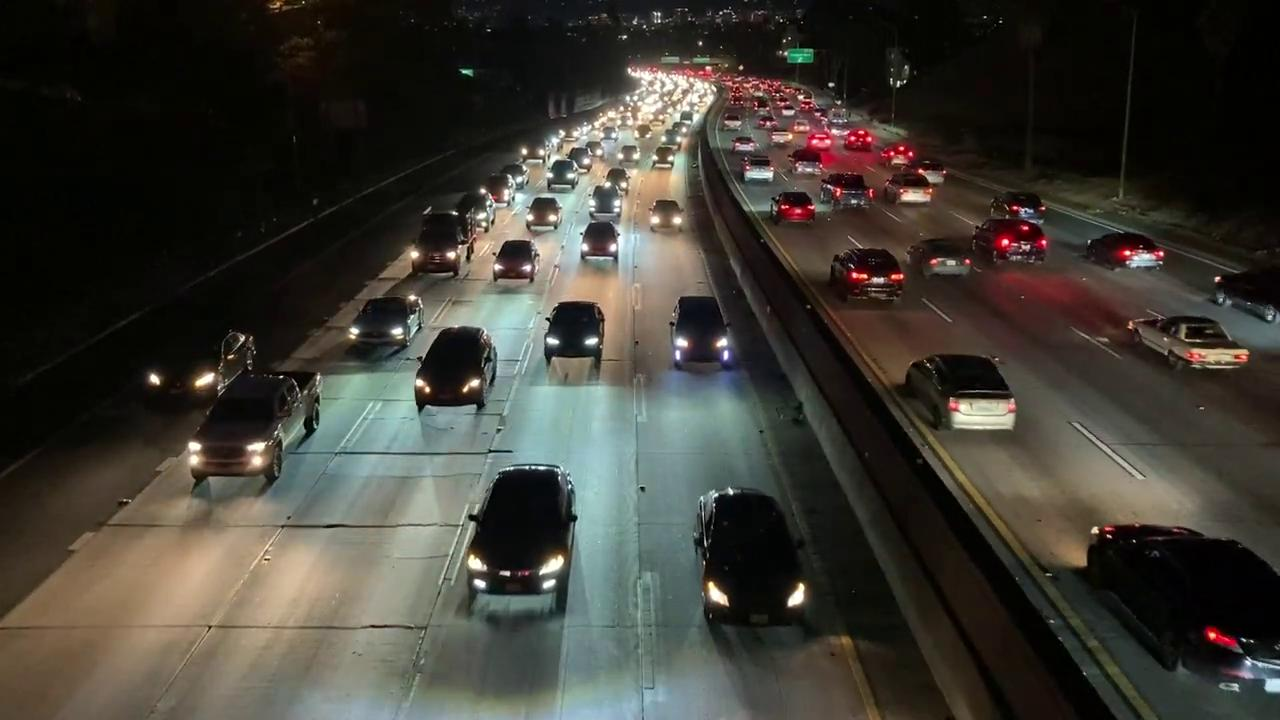car: (1083, 504, 1279, 709), (689, 475, 828, 642), (461, 461, 578, 614), (187, 368, 331, 488), (904, 344, 1018, 439), (1130, 302, 1256, 377), (129, 326, 256, 399), (411, 324, 497, 414), (1198, 241, 1279, 328), (664, 294, 736, 365), (831, 245, 909, 306), (542, 298, 603, 368), (348, 296, 424, 348), (973, 218, 1050, 269), (1085, 230, 1168, 277), (905, 237, 975, 282), (988, 189, 1053, 225), (491, 239, 540, 284), (819, 173, 874, 209), (454, 189, 500, 231), (578, 222, 622, 264), (882, 172, 936, 206), (769, 192, 818, 226), (524, 196, 563, 231), (588, 183, 624, 220), (648, 198, 684, 233), (900, 158, 947, 184), (543, 158, 581, 190), (480, 174, 519, 205), (739, 155, 775, 183), (786, 150, 821, 175), (603, 166, 633, 192), (878, 145, 913, 167), (501, 163, 532, 187), (566, 147, 594, 172), (844, 131, 876, 148), (653, 145, 677, 167), (765, 130, 795, 147), (729, 136, 757, 154), (618, 144, 641, 165), (806, 133, 832, 151), (722, 113, 744, 132), (757, 115, 778, 129)
truck: (409, 207, 478, 277)
